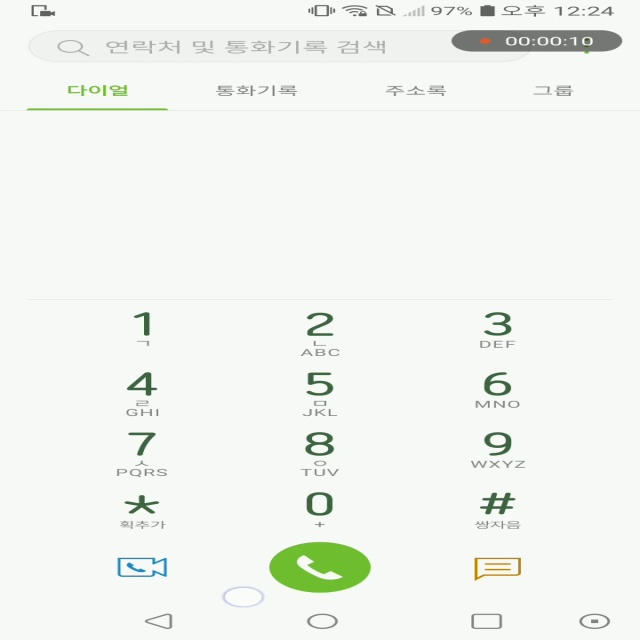Cursor: (223, 586, 267, 608)
